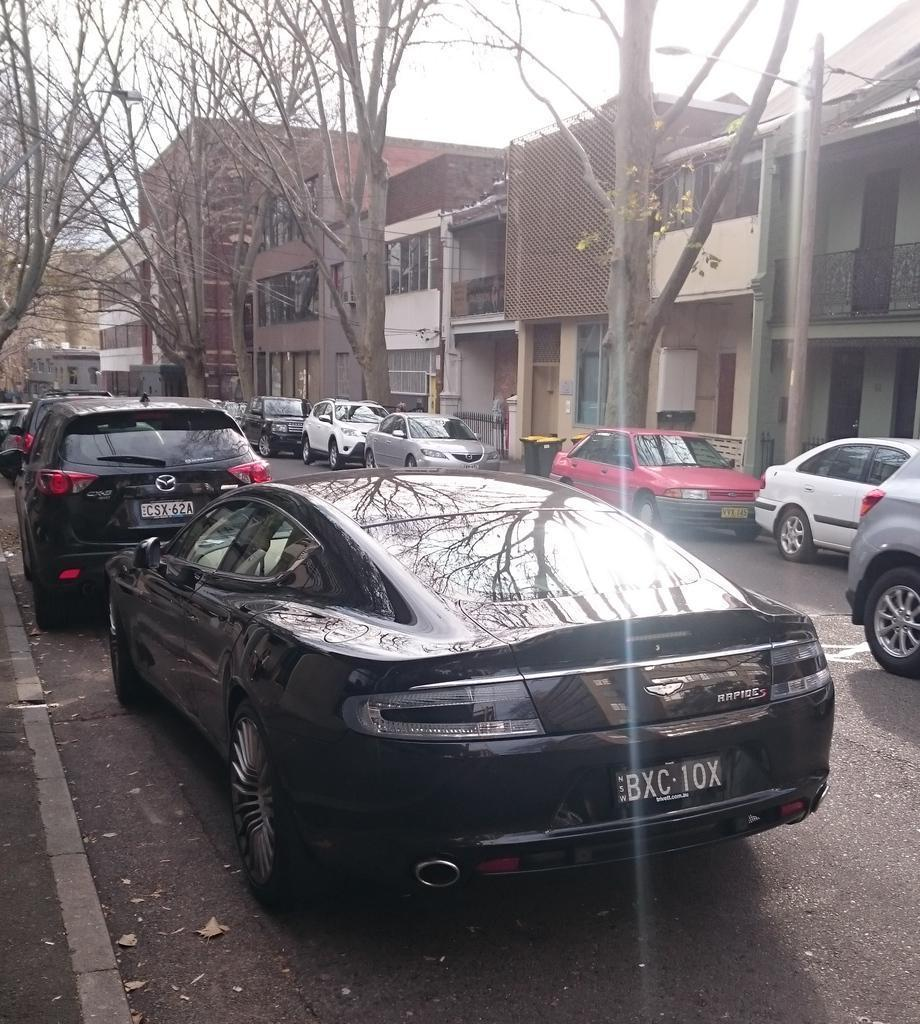bienso: (612, 759, 727, 803), (138, 498, 196, 521), (720, 502, 751, 526)
